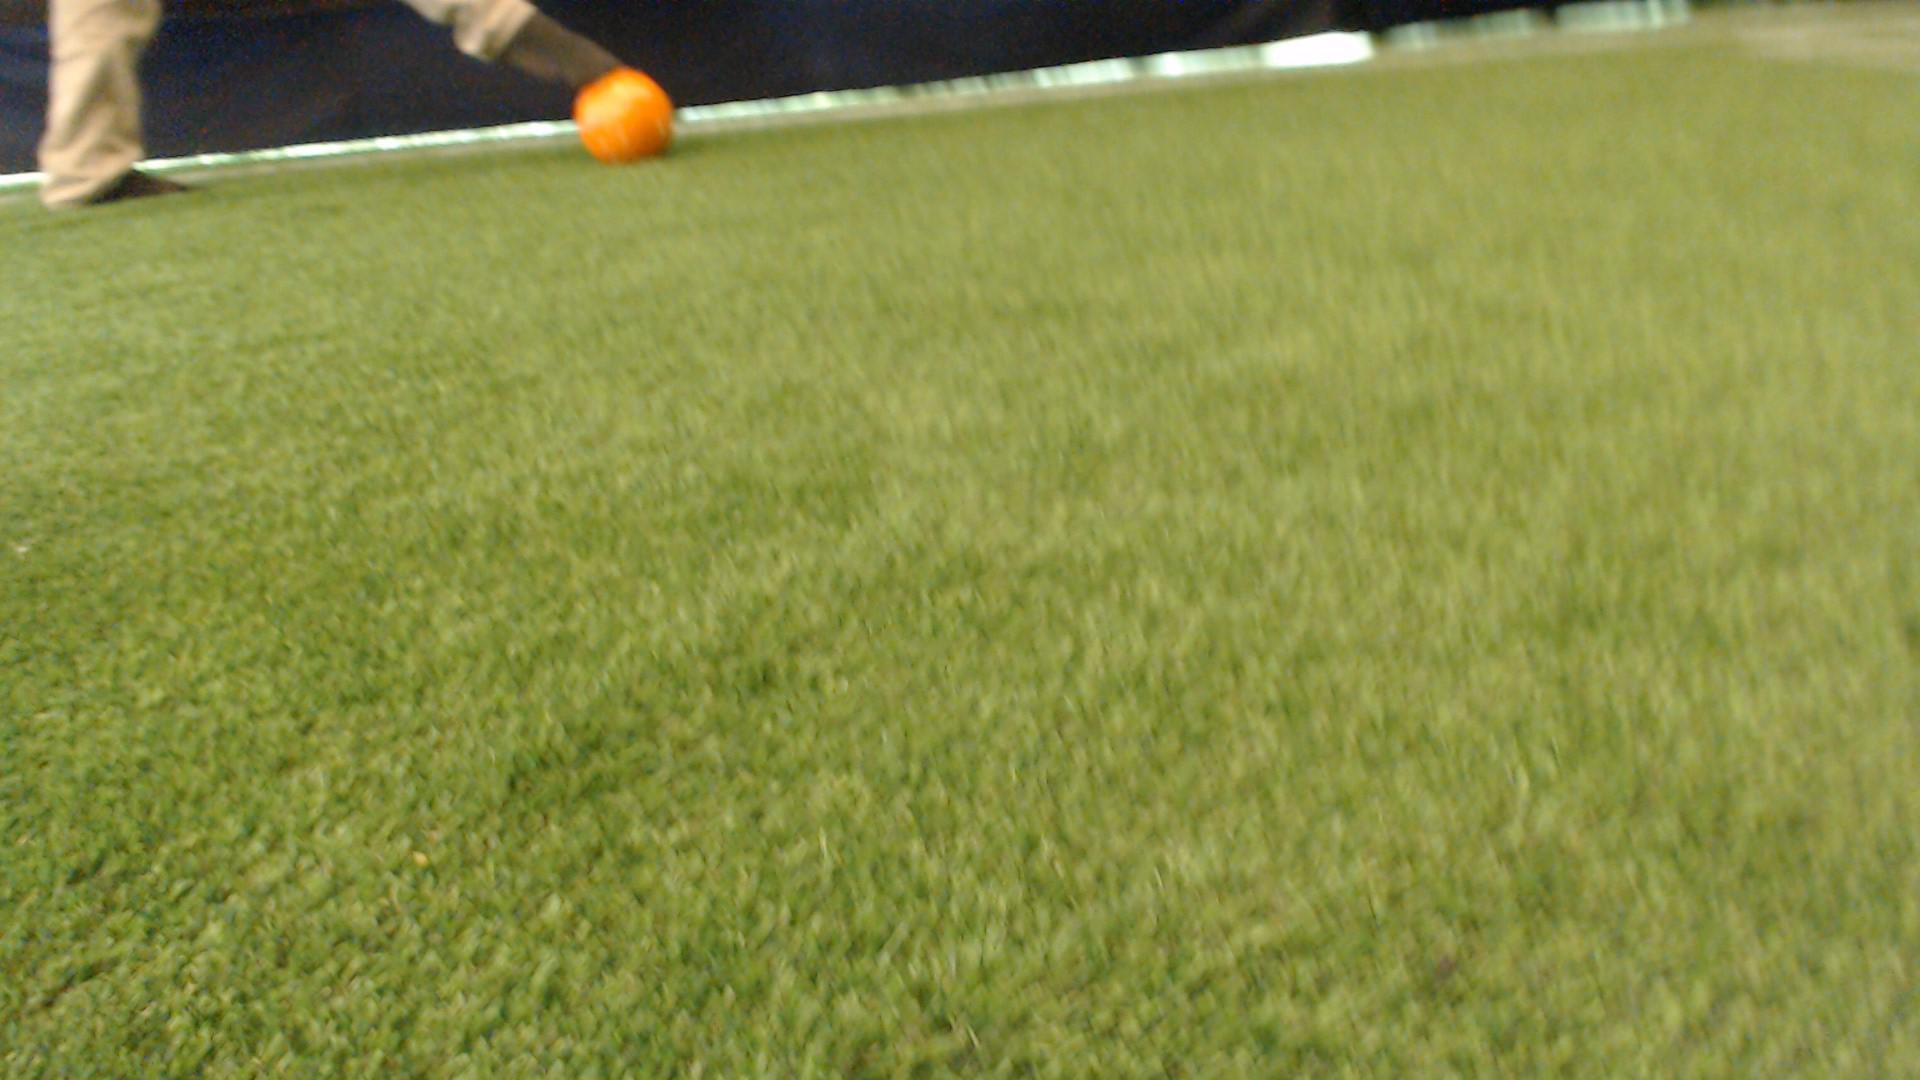bola: (571, 62, 705, 179)
